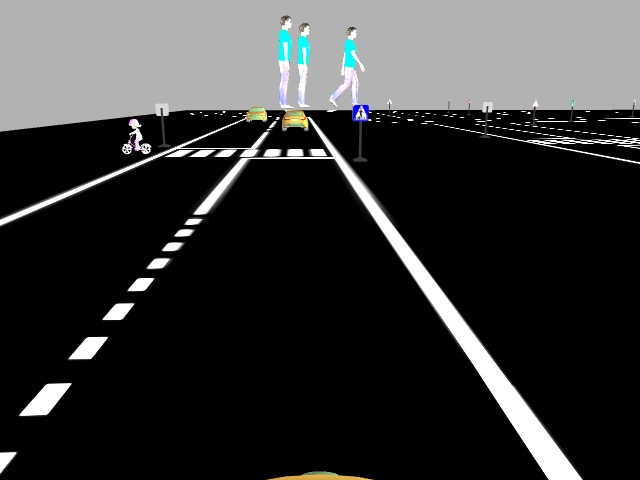Crosswalk: (350, 101, 371, 123)
